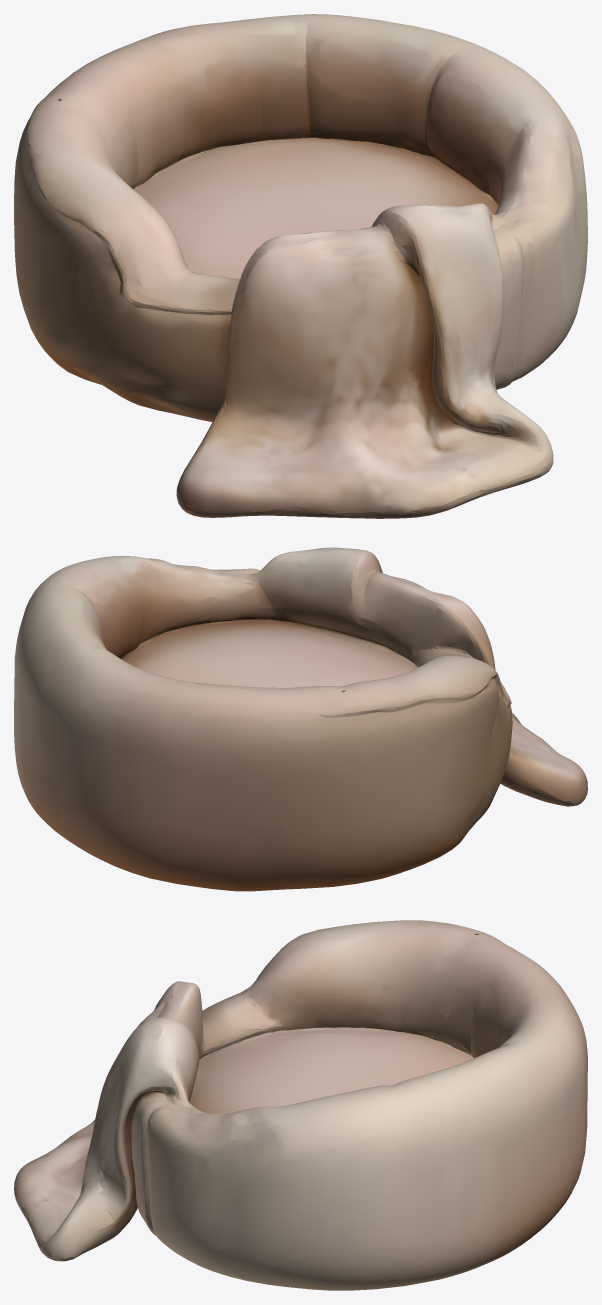
The model's file is bed.glb.
The picture shows the model from 3 angles, top to bottom: view 1: azimuth 30°, elevation 25°; view 2: azimuth 150°, elevation 25°; view 3: azimuth 270°, elevation 25°; orthographic projection. The views are drawn at different scales.
Parts seen in each view (by area): view 1: model; view 2: model; view 3: model.
Part boxes in pixels (x1,y1,x2,y2): model: [14, 14, 587, 518]; model: [14, 547, 587, 891]; model: [14, 920, 587, 1290].
Bounding box in the file's own units: 1.62 × 0.8013 × 1.84.
1 material, 1 textured.
